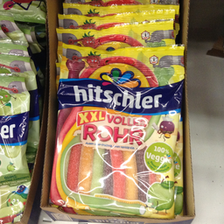candy: (53, 35, 188, 220)
